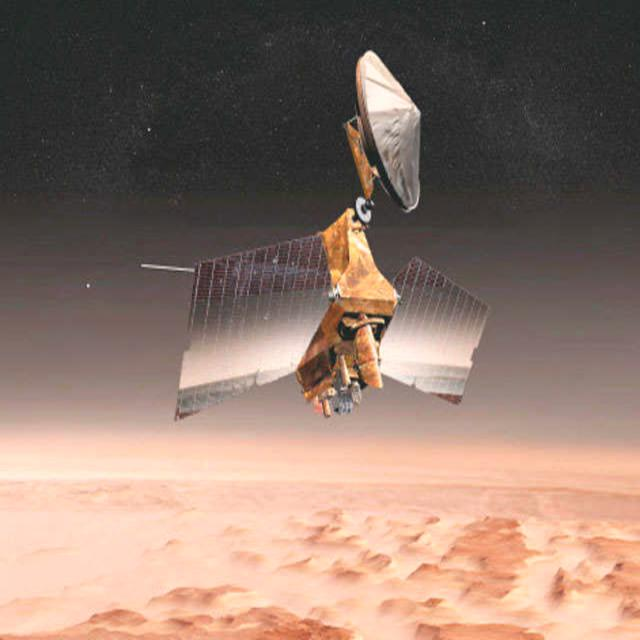medium_debris: (166, 49, 496, 434)
